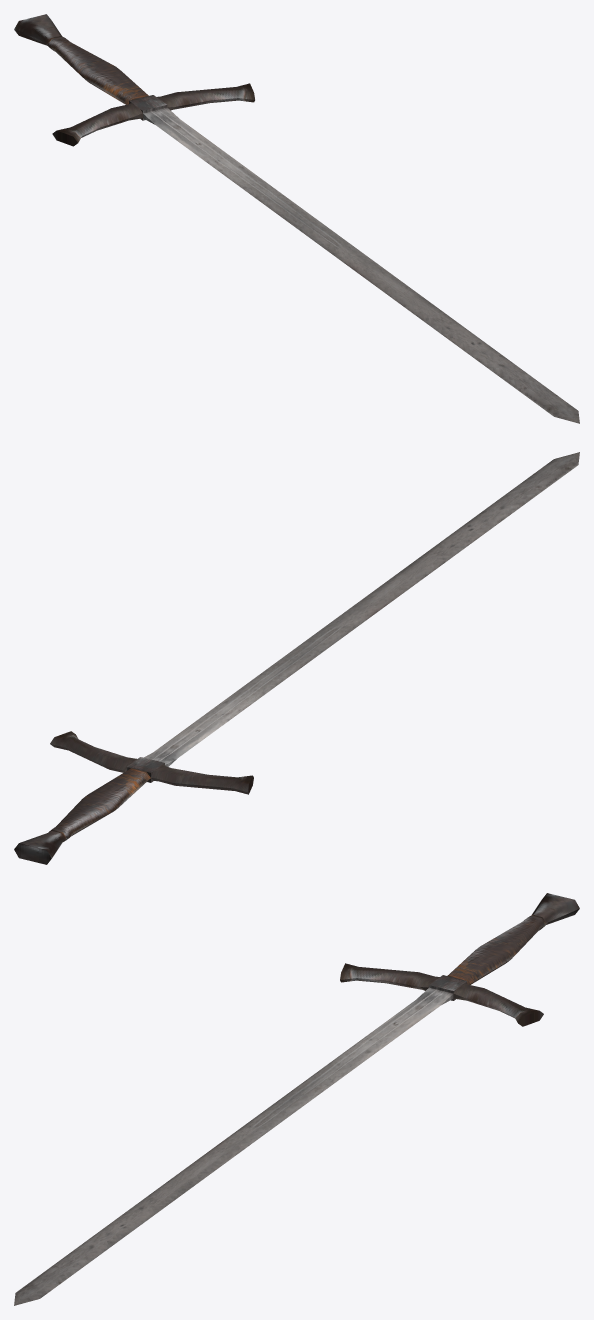
The model's file is ps1-medieval-long-sword.glb.
3 views of the same model, one above another, from view 1: azimuth 30°, elevation 25°; view 2: azimuth 150°, elevation 25°; view 3: azimuth 330°, elevation 25° (orthographic).
Parts seen in each view (by area): view 1: med sword 1; view 2: med sword 1; view 3: med sword 1.
Part boxes in pixels (x1,y1,x2,y2): med sword 1: [14, 14, 579, 423]; med sword 1: [14, 452, 579, 864]; med sword 1: [14, 893, 579, 1305].
Bounding box in the file's own units: 1.05 × 0.0762 × 5.05.
Materials: 1 (1 with a texture image).
